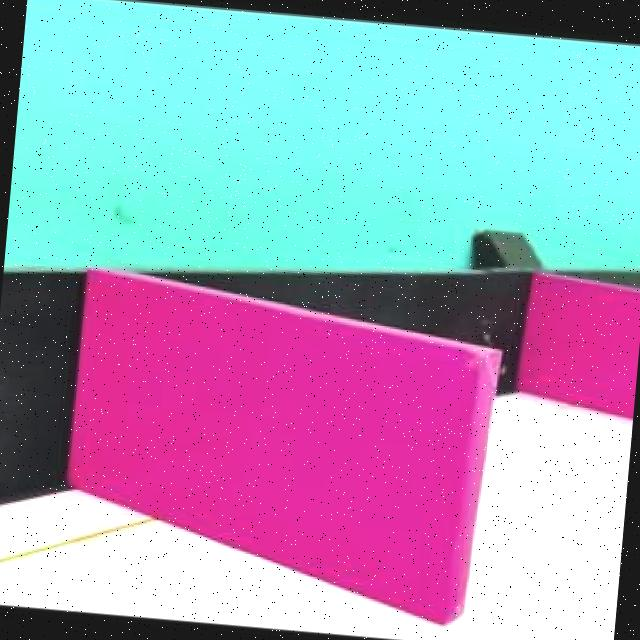xparking: (77, 328, 477, 608), (536, 286, 636, 416)
